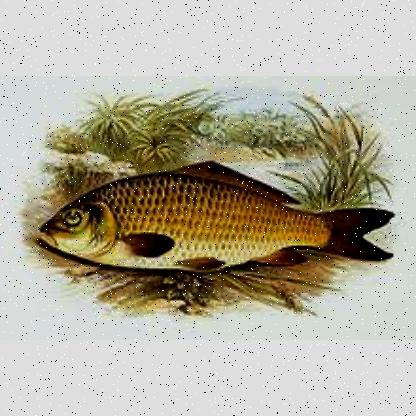ikan-mas: (36, 162, 394, 276)
